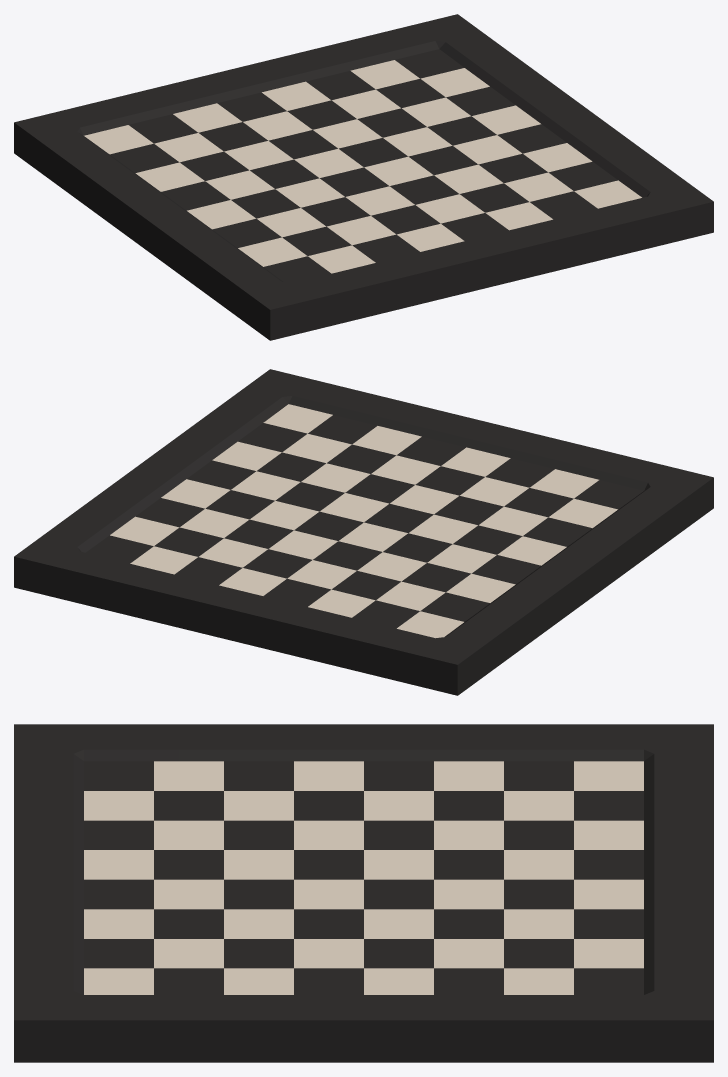
File: Board.fbx
3 views of the same model, one above another, from view 1: azimuth 30°, elevation 25°; view 2: azimuth 150°, elevation 25°; view 3: azimuth 270°, elevation 25° (orthographic). The views are drawn at different scales.
Parts seen in each view (by area): view 1: Board; view 2: Board; view 3: Board.
Part boxes in pixels (box(x1,y1,x2,y2)): Board: box(14, 14, 713, 340); Board: box(14, 369, 713, 695); Board: box(14, 724, 713, 1062).
Size of the model in its own units: 1000 by 66.61 by 1000.
